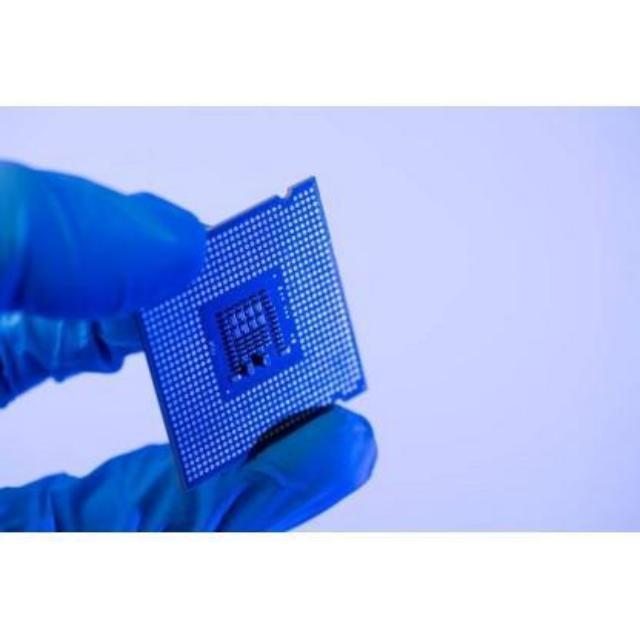CPU: (136, 180, 372, 488)
